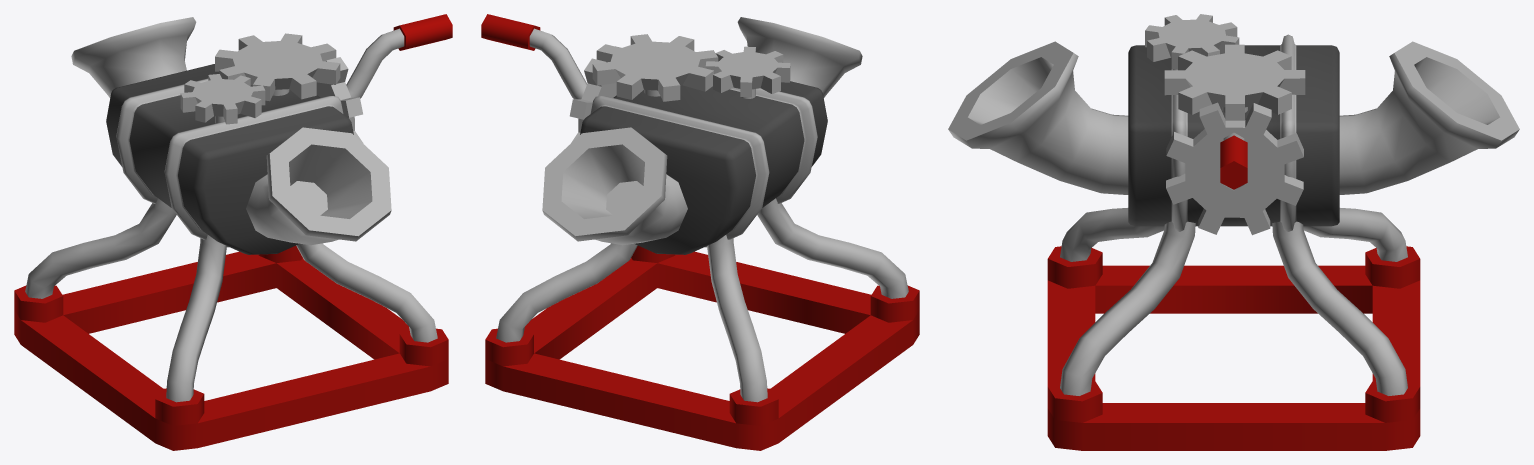
The model's file is crafting_station.fbx.
3 renders of one model, left to right at view 1: azimuth 30°, elevation 25°; view 2: azimuth 150°, elevation 25°; view 3: azimuth 270°, elevation 25°, orthographic. The views are drawn at different scales.
Parts seen in each view (by area): view 1: Standson, MainBody, In/Out, Gear2, Gear3, Crank, Gear1; view 2: Standson, MainBody, In/Out, Gear2, Gear3, Crank, Gear1; view 3: Standson, In/Out, MainBody, Gear1, Gear2, Gear3, Crank.
Part boxes in pixels (x1=…): Standson: x1=14, y1=198, x2=448, y2=450; MainBody: x1=106, y1=64, x2=353, y2=254; In/Out: x1=71, y1=17, x2=391, y2=245; Gear2: x1=215, y1=33, x2=340, y2=101; Gear3: x1=180, y1=74, x2=265, y2=124; Crank: x1=346, y1=14, x2=452, y2=98; Gear1: x1=313, y1=46, x2=363, y2=143; Standson: x1=485, y1=198, x2=919, y2=450; MainBody: x1=580, y1=81, x2=827, y2=254; In/Out: x1=542, y1=17, x2=862, y2=245; Gear2: x1=592, y1=34, x2=718, y2=101; Gear3: x1=705, y1=46, x2=790, y2=98; Crank: x1=481, y1=14, x2=586, y2=99; Gear1: x1=569, y1=46, x2=621, y2=142; Standson: x1=1047, y1=208, x2=1420, y2=450; In/Out: x1=948, y1=41, x2=1519, y2=194; MainBody: x1=1128, y1=34, x2=1339, y2=231; Gear1: x1=1166, y1=102, x2=1303, y2=235; Gear2: x1=1164, y1=44, x2=1305, y2=120; Gear3: x1=1145, y1=14, x2=1239, y2=69; Crank: x1=1220, y1=132, x2=1247, y2=190.
Size of the model in its own units: 440 by 343 by 540.
